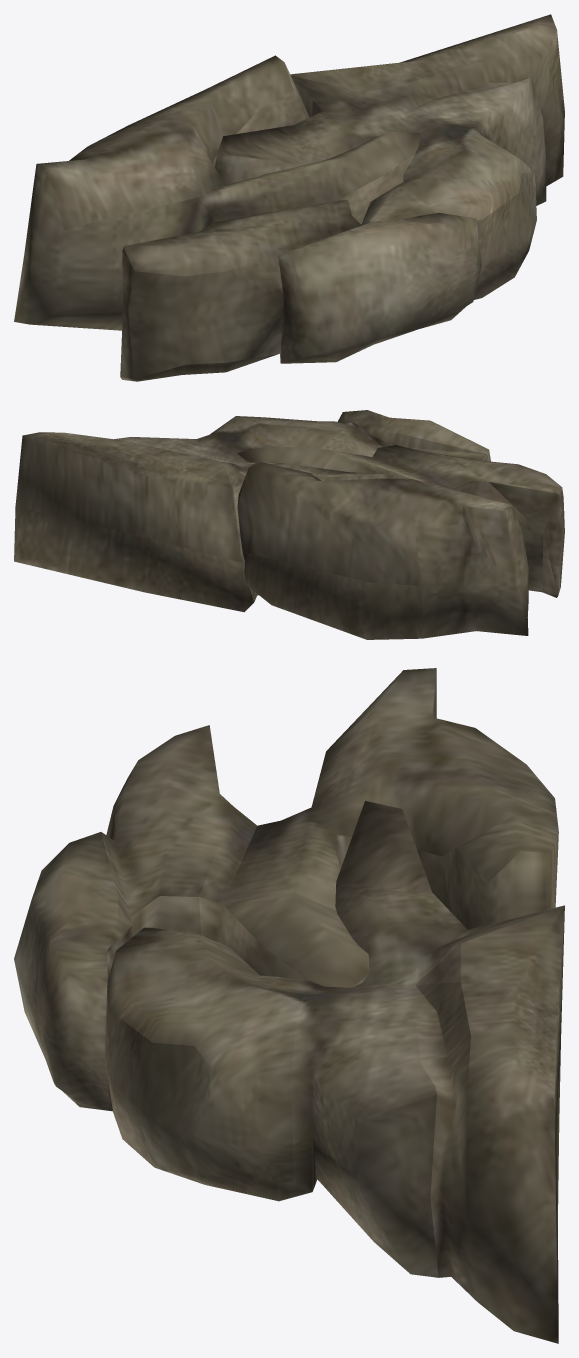
Rendered from military_sandbag_endsection_right.glb.
The picture shows the model from 3 angles, top to bottom: view 1: azimuth 30°, elevation 25°; view 2: azimuth 150°, elevation 25°; view 3: azimuth 270°, elevation 25°; orthographic projection. The views are drawn at different scales.
Size of the model in its own units: 60.03 by 18.09 by 31.99.
1 material, 1 textured.
